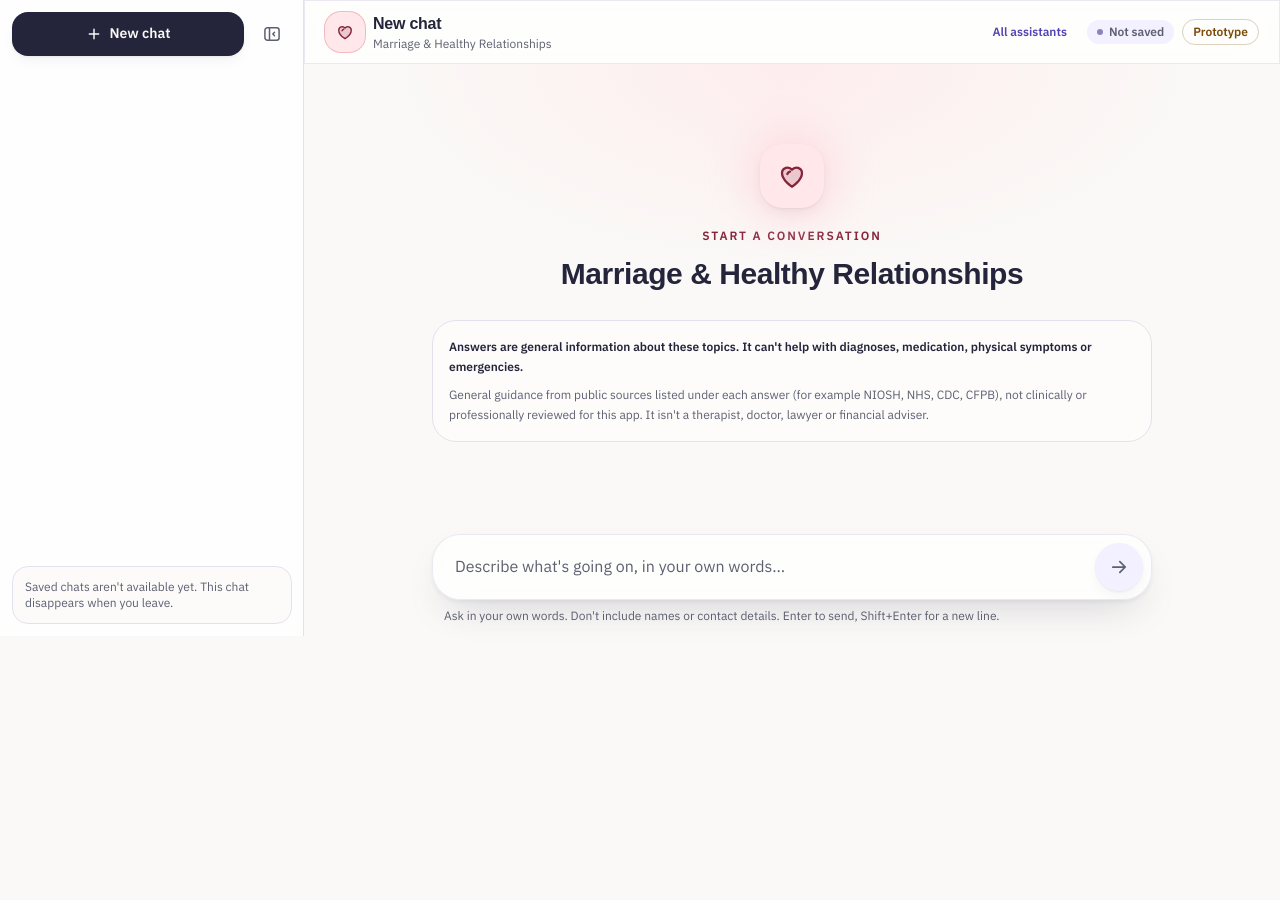
workspace handoff › an answer can carry a handoff suggestion too
The width and height of the screenshot is (1280, 900).
Step 1. Type "My manager keeps changing my deadlines" into the text box named "Ask a general question" → [764, 567], box 441,543 -> 1087,591
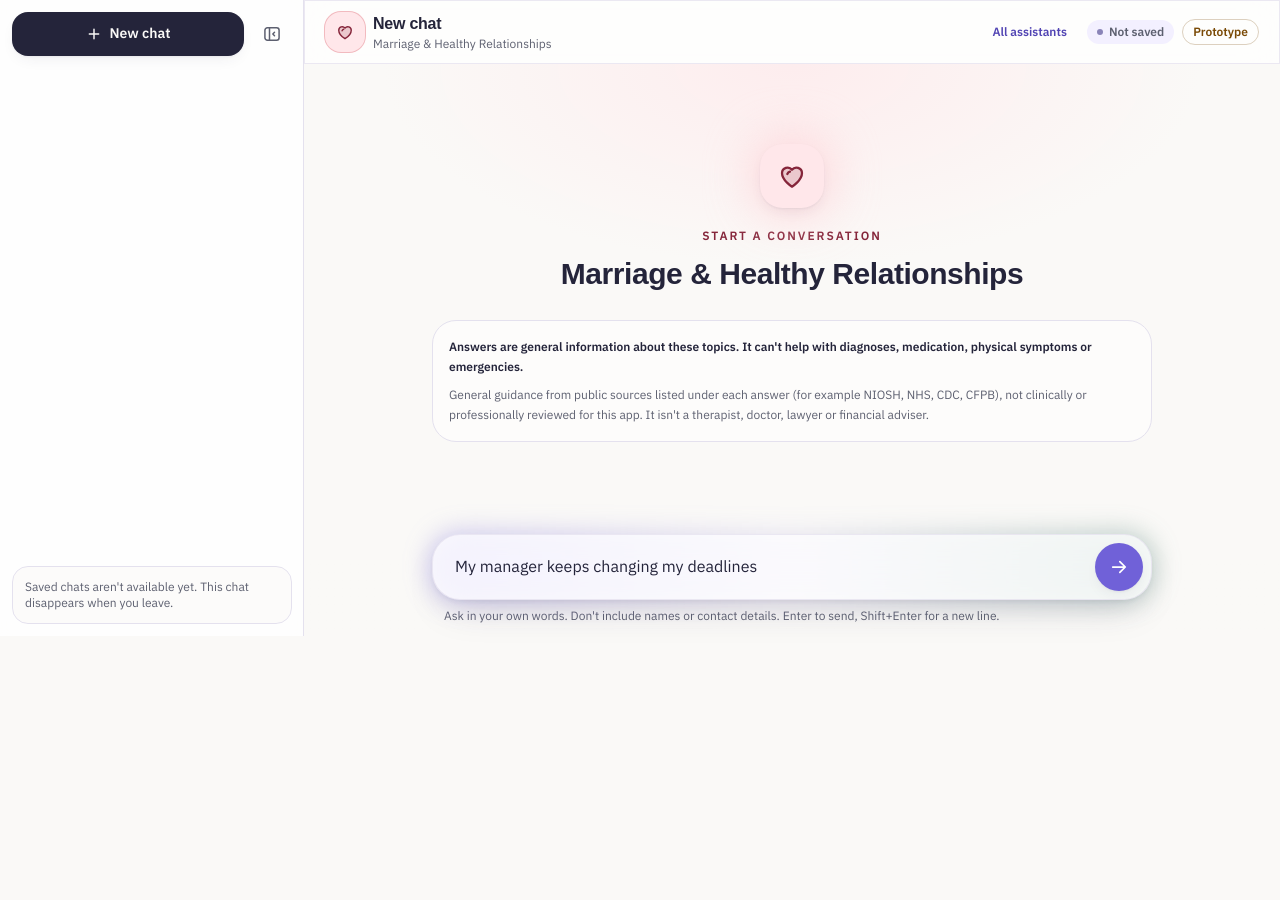
Step 2. Click the button named "Send" → [1119, 567], box 1095,543 -> 1143,591
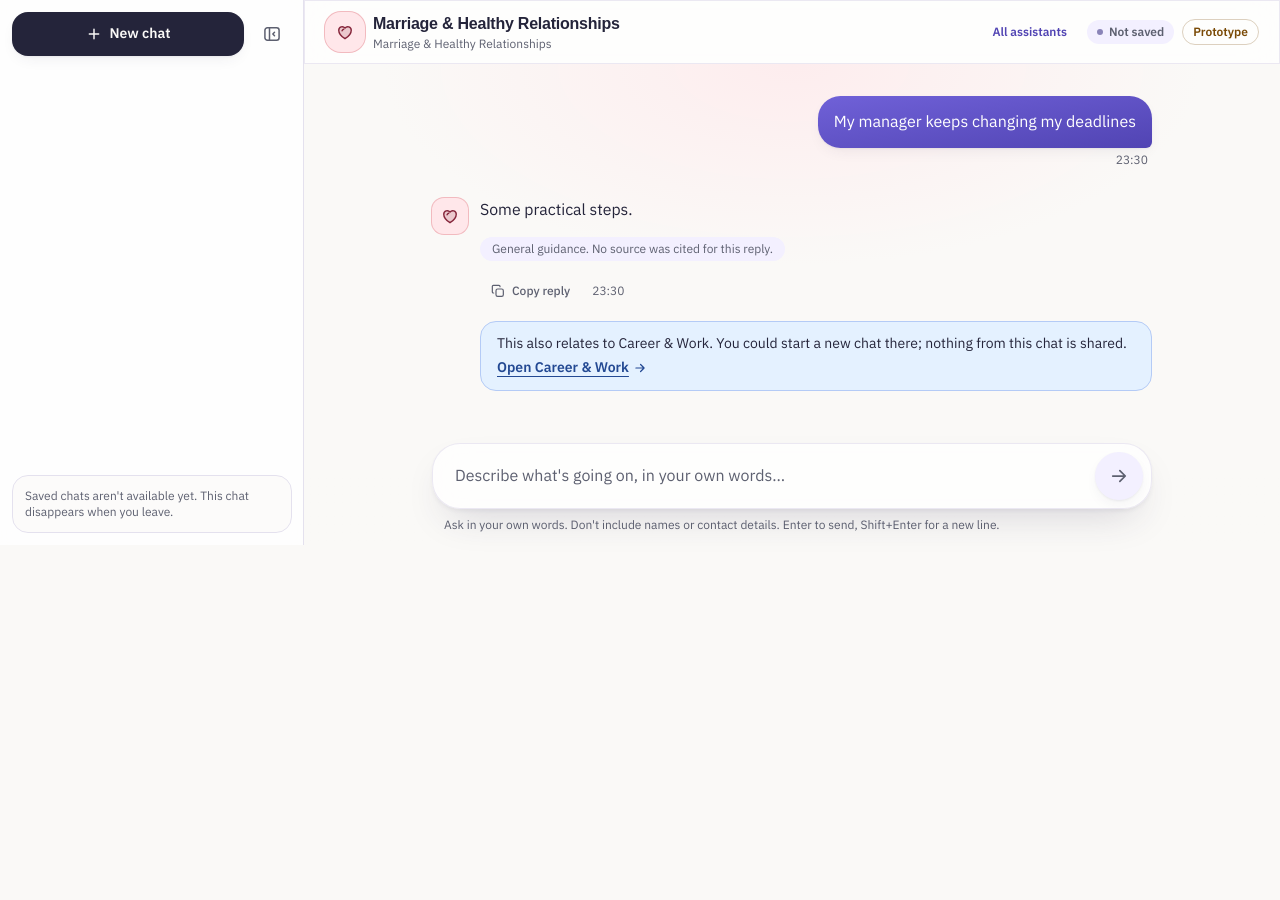
Expected: the text "Some practical steps." is shown, 480,198 -> 632,222
